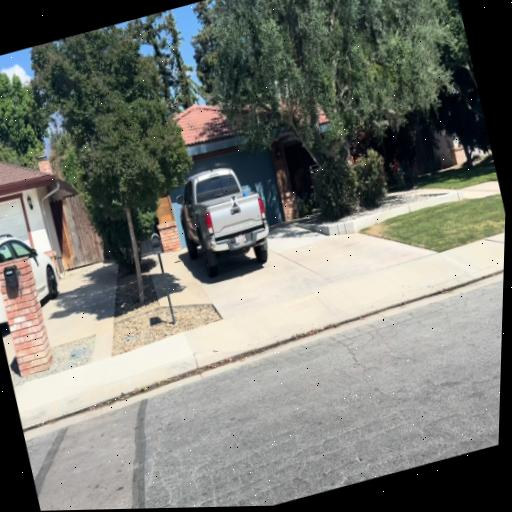target1: (229, 194, 239, 208)
